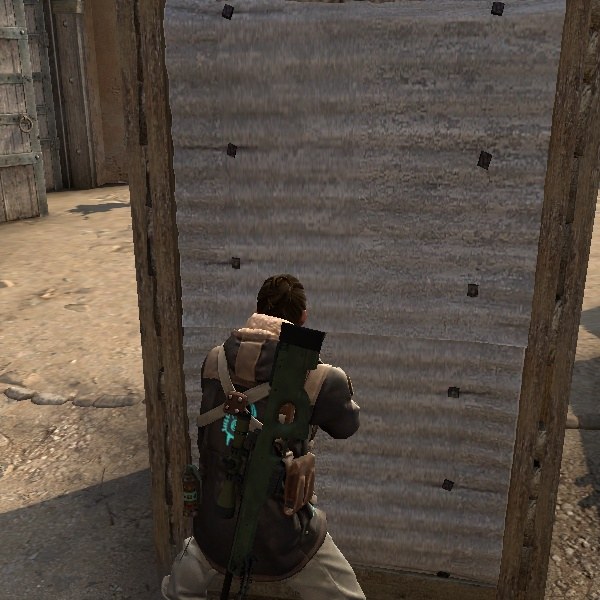ct_body: (129, 271, 383, 600)
t_body: (130, 267, 387, 599)
t_head: (233, 267, 326, 357)
